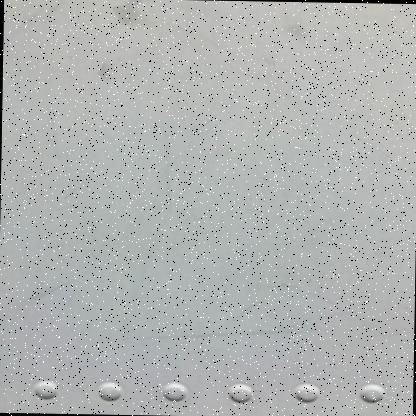Nocrack: (0, 10, 389, 415)
